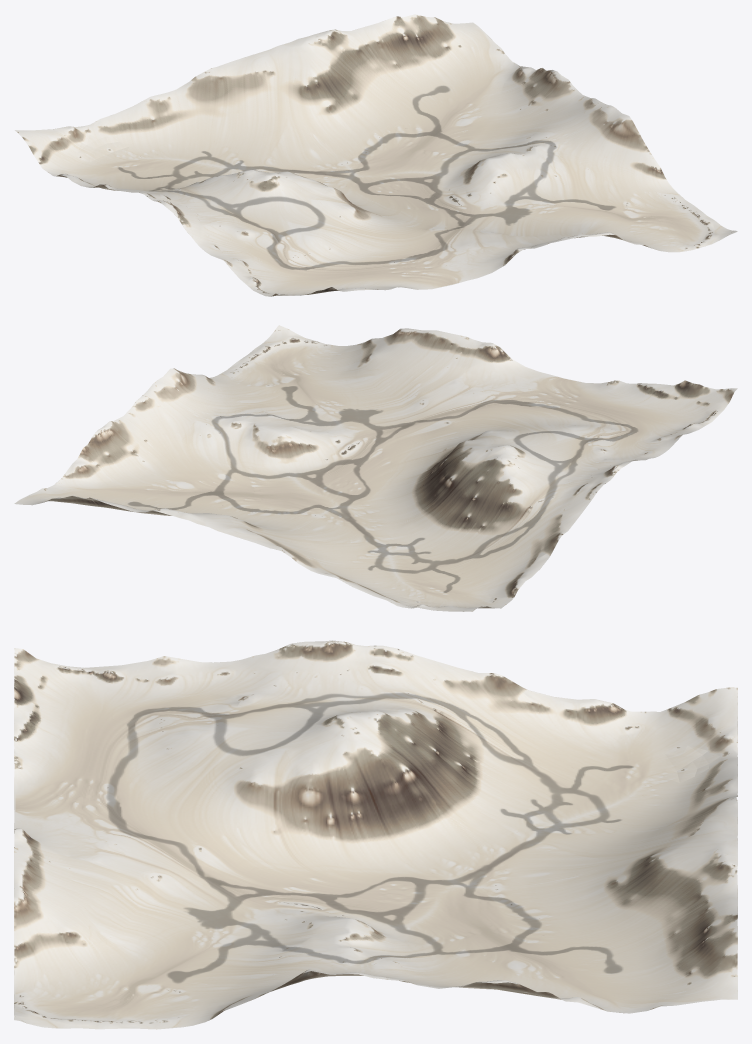
Rendered from terrain.fbx.
3 renders of one model, top to bottom at view 1: azimuth 30°, elevation 25°; view 2: azimuth 150°, elevation 25°; view 3: azimuth 270°, elevation 25°, orthographic. The views are drawn at different scales.
Parts seen in each view (by area): view 1: Mesh; view 2: Mesh; view 3: Mesh.
Part boxes in pixels (x1,y1,x2,y2): Mesh: [15, 14, 737, 296]; Mesh: [14, 325, 737, 611]; Mesh: [14, 640, 737, 1029].
Bounding box in the file's own units: 18.09 × 2.43 × 18.09.
